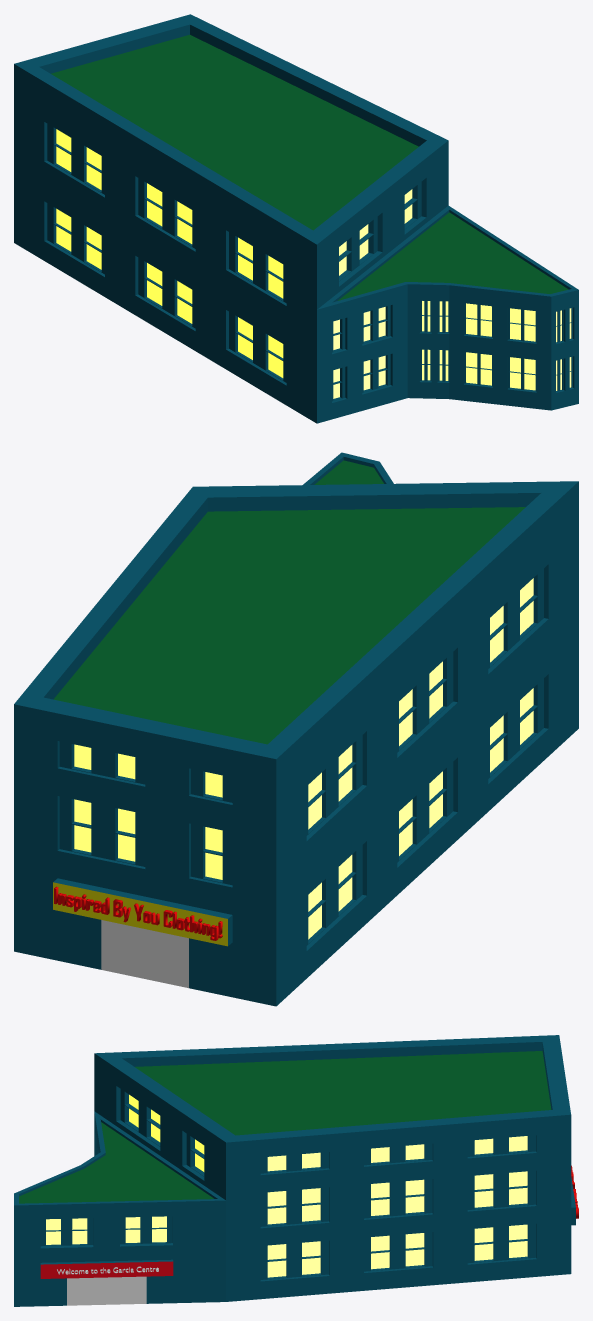
Rendered from garcia_centre.fbx.
3 renders of one model, top to bottom at view 1: azimuth 30°, elevation 25°; view 2: azimuth 150°, elevation 25°; view 3: azimuth 270°, elevation 25°, orthographic. The views are drawn at different scales.
Parts seen in each view (by area): view 1: Plane; view 2: Plane, Text; view 3: Plane, Text.001.
Boxes of the visible parts, x1,y1,x2,y2 form: Plane: (14, 14, 578, 423); Plane: (14, 452, 578, 1006); Text: (54, 886, 222, 940); Plane: (14, 1035, 575, 1306); Text.001: (57, 1266, 158, 1274).
Bounding box in the file's own units: 506 × 330 × 1060.
